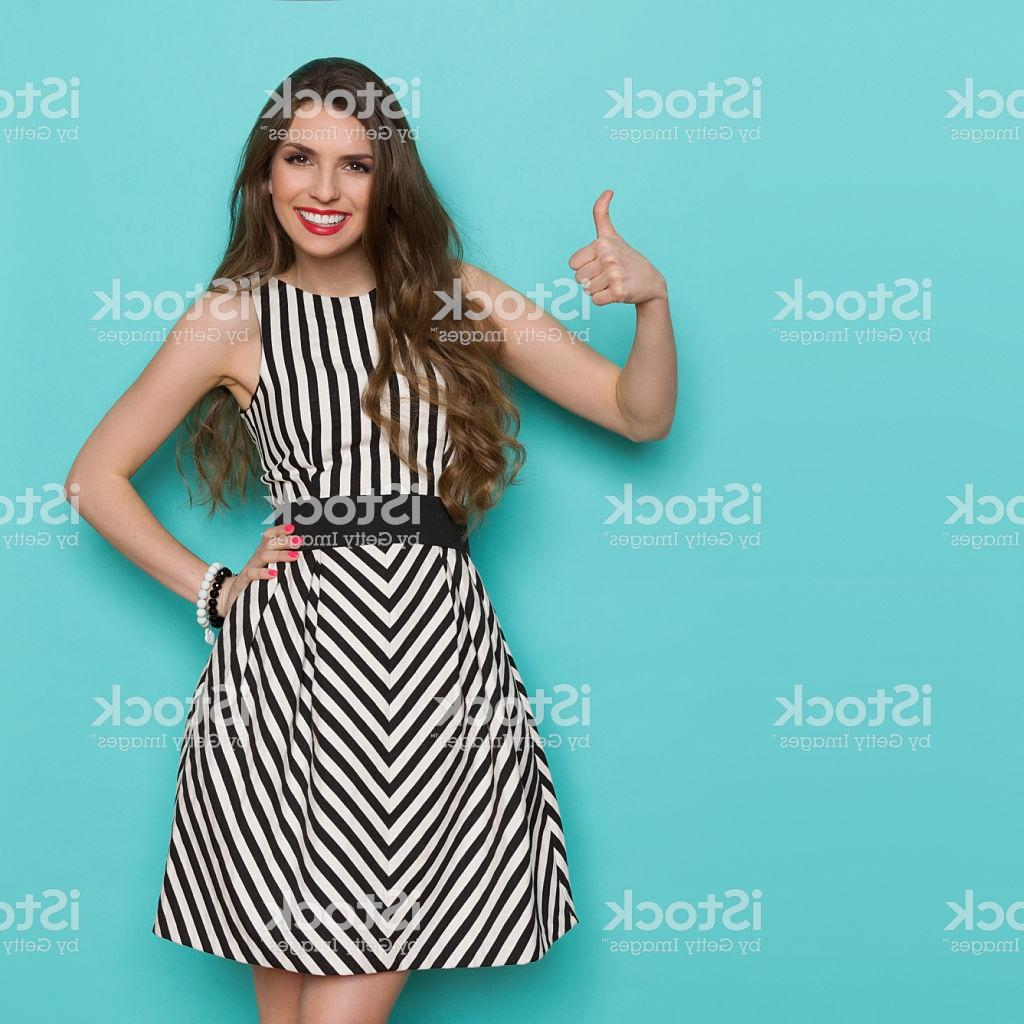thumbsup: (567, 188, 643, 309)
